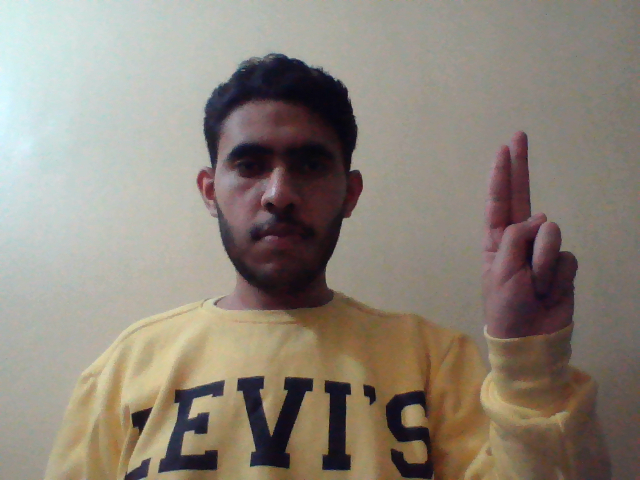U: (478, 124, 587, 360)
